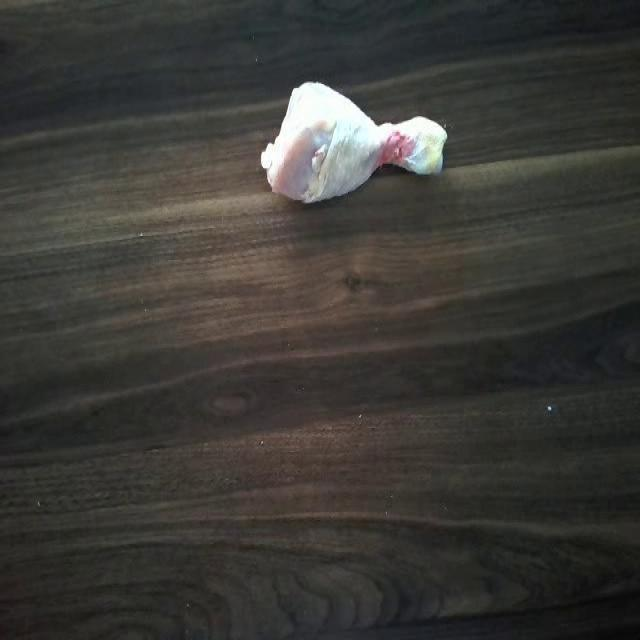leg: (254, 79, 448, 207)
